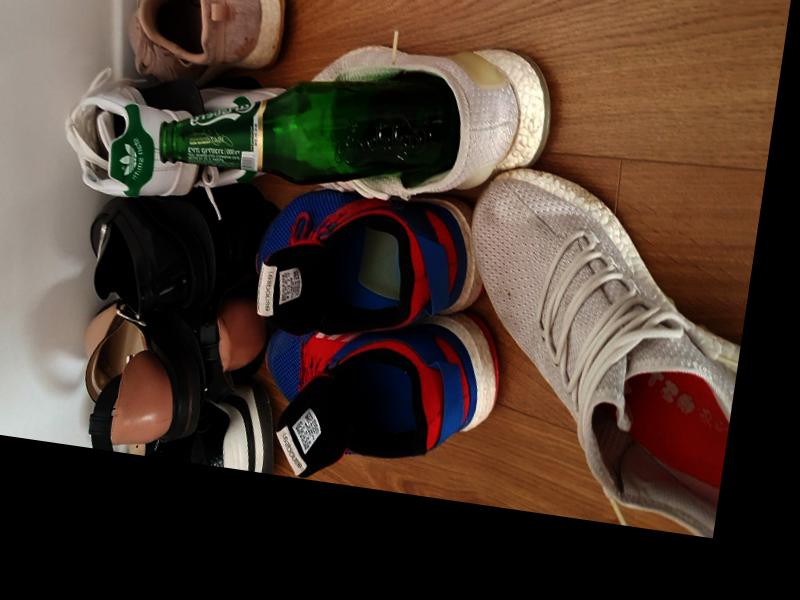Beer: (158, 40, 466, 207)
